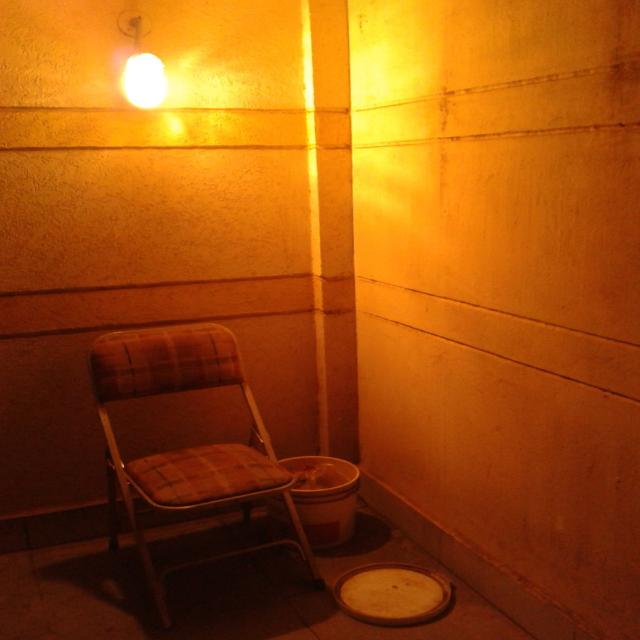chair: (62, 299, 354, 632)
